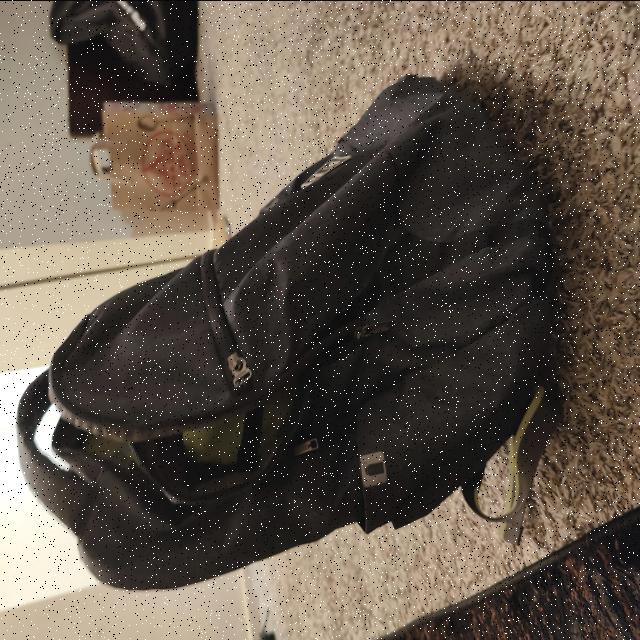bag: (22, 64, 520, 556)
